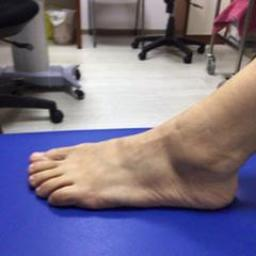Lateral View -Left Foot-: (19, 108, 254, 218)
